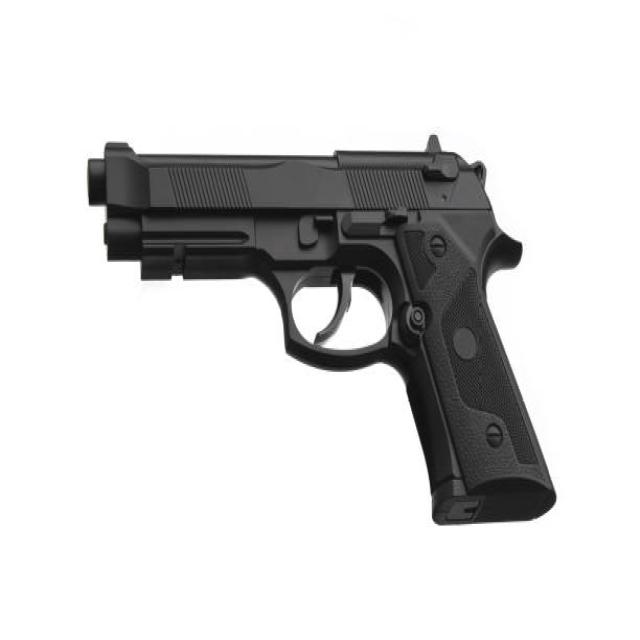pistol: (81, 127, 565, 547)
